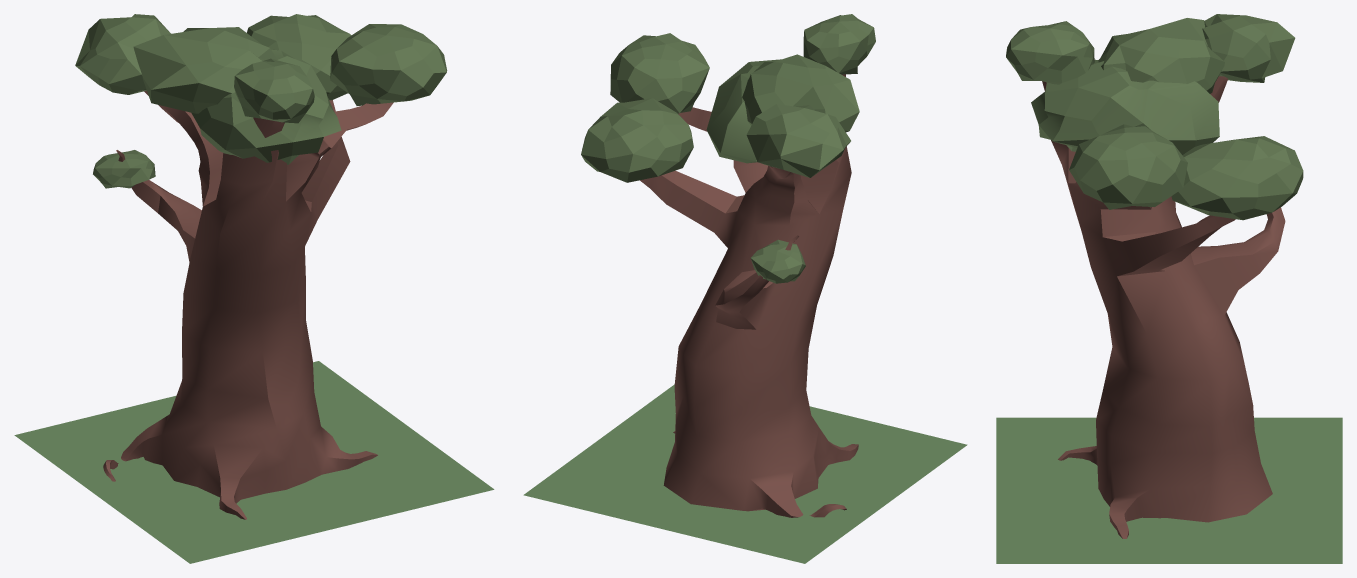
Rendered from tree3.fbx.
The picture shows the model from 3 angles, left to right: view 1: azimuth 30°, elevation 25°; view 2: azimuth 150°, elevation 25°; view 3: azimuth 270°, elevation 25°; orthographic projection. The views are drawn at different scales.
Parts seen in each view (by area): view 1: Live_tree_comp_tile_3; view 2: Live_tree_comp_tile_3; view 3: Live_tree_comp_tile_3.
Boxes of the visible parts, left/top/right/bottom form: Live_tree_comp_tile_3: left=14, top=14, right=494, bottom=563; Live_tree_comp_tile_3: left=523, top=14, right=967, bottom=563; Live_tree_comp_tile_3: left=996, top=14, right=1342, bottom=563.
Bounding box in the file's own units: 2.06 × 2.88 × 2.
